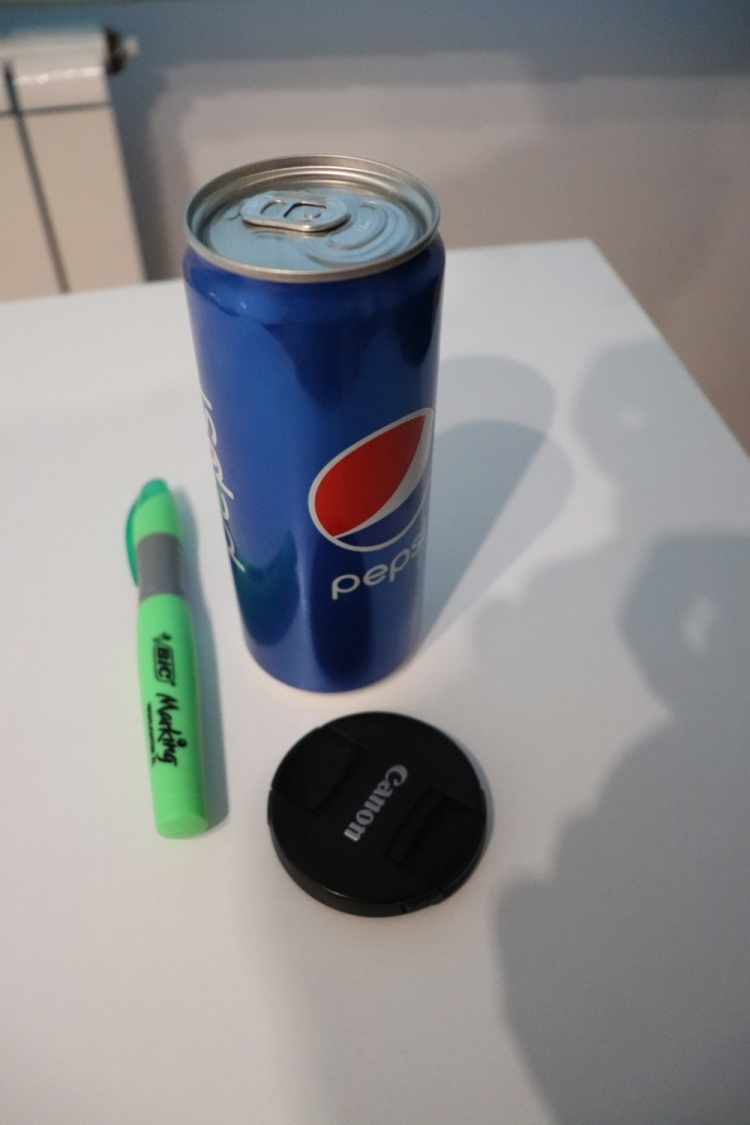pepsi: (173, 151, 466, 697)
